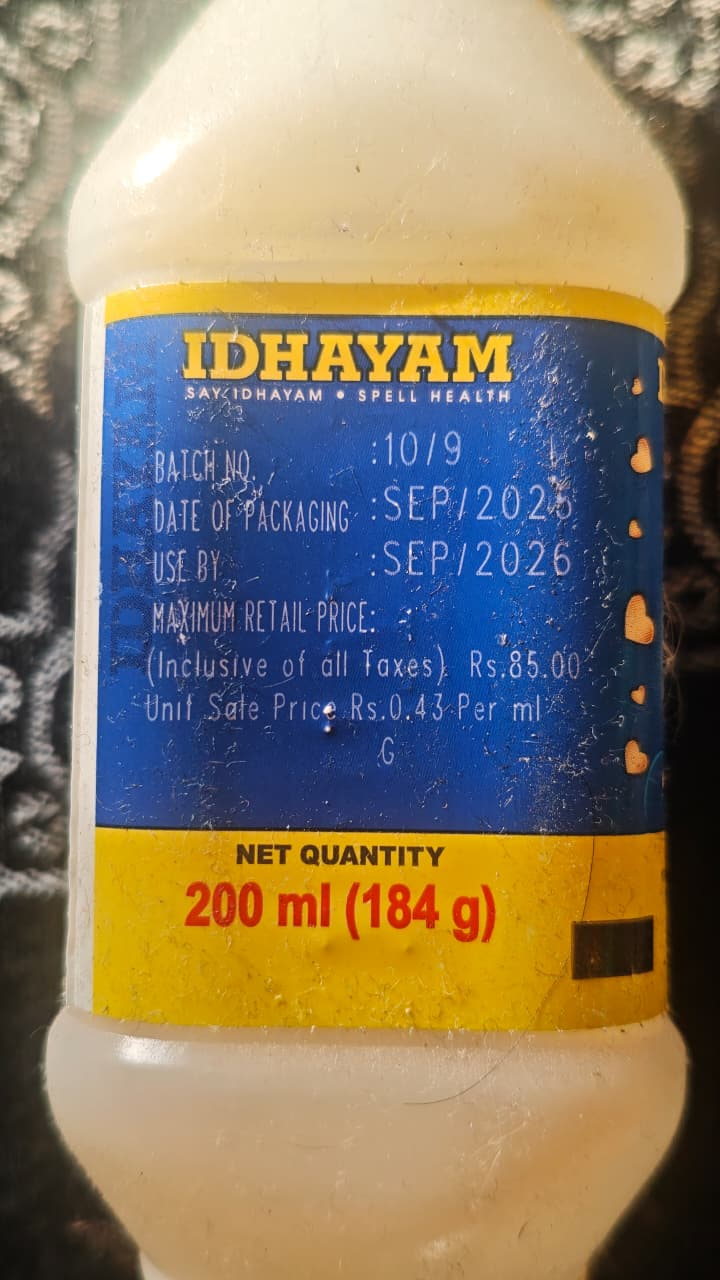Brand: (168, 321, 517, 409)
EXP_Date: (381, 540, 578, 589)
MFG_Date: (379, 479, 577, 532)
MRP: (156, 645, 587, 688)
